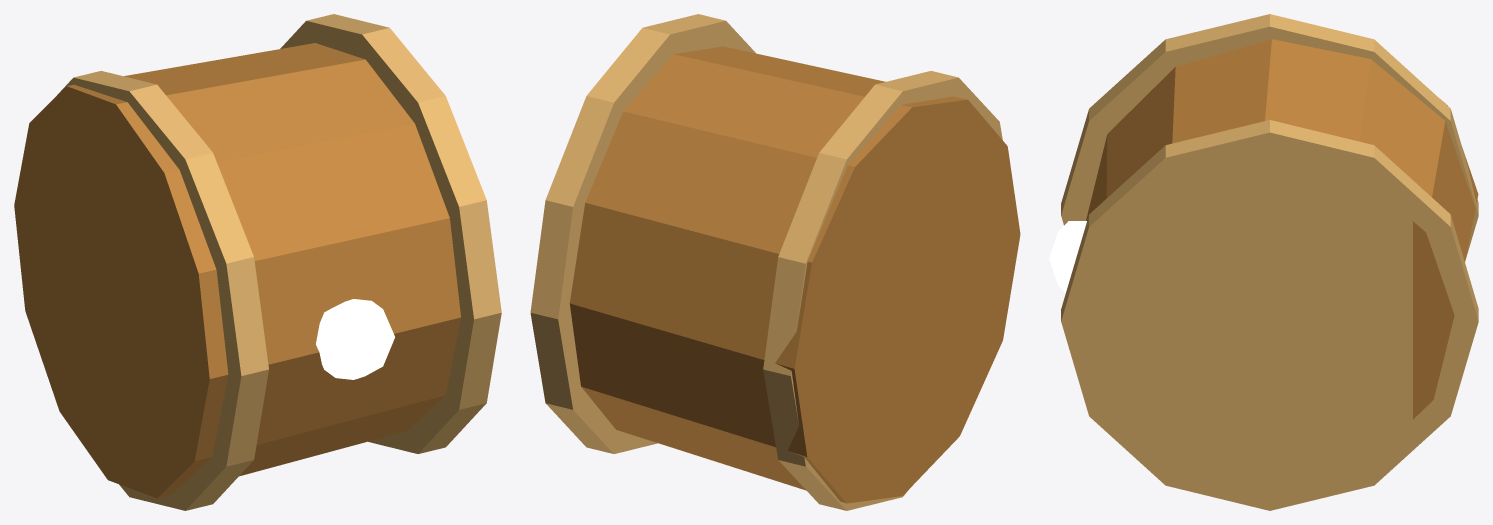
Rendered from sky_guardian_bracer_l.glb.
3 views of the same model, side by side, from view 1: azimuth 30°, elevation 25°; view 2: azimuth 150°, elevation 25°; view 3: azimuth 270°, elevation 25° (orthographic). The views are drawn at different scales.
Parts seen in each view (by area): view 1: sky_guardian_bracer_l; view 2: sky_guardian_bracer_l; view 3: sky_guardian_bracer_l.
Part boxes in pixels (left/top/right/bottom): sky_guardian_bracer_l: left=14, top=14, right=501, bottom=510; sky_guardian_bracer_l: left=530, top=14, right=1020, bottom=510; sky_guardian_bracer_l: left=1049, top=14, right=1478, bottom=510.
Bounding box in the file's own units: 0.2533 × 0.35 × 0.36.
